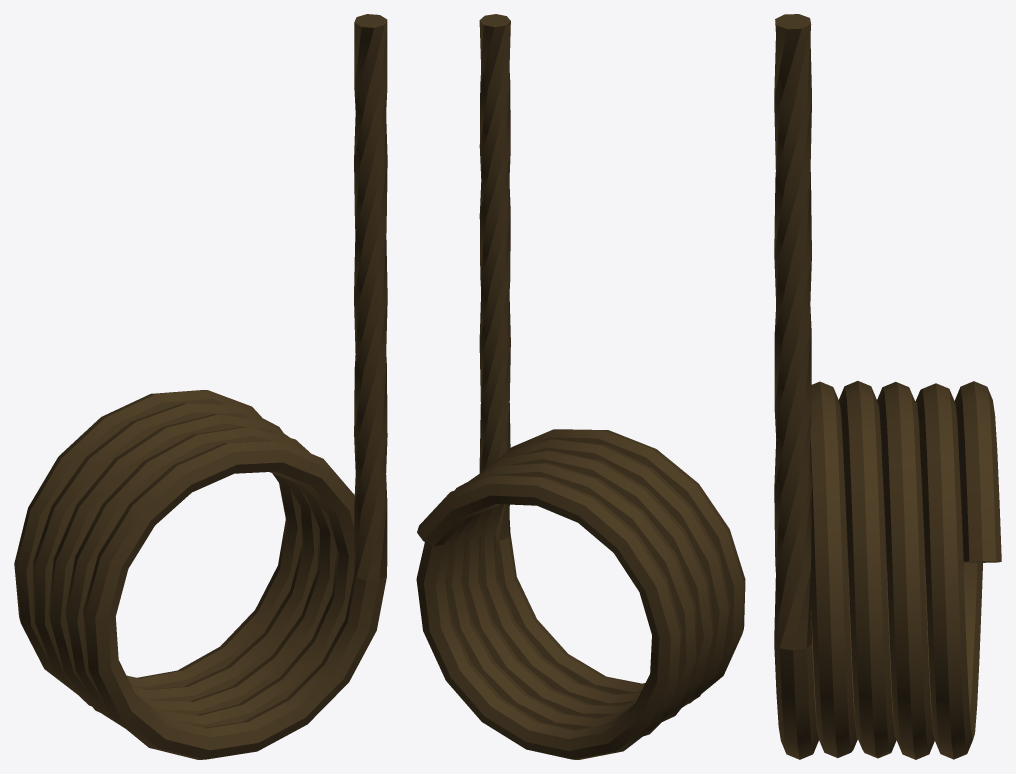
Rendered from Rope.fbx.
The picture shows the model from 3 angles, left to right: view 1: azimuth 30°, elevation 25°; view 2: azimuth 150°, elevation 25°; view 3: azimuth 270°, elevation 25°; orthographic projection. The views are drawn at different scales.
Visible parts, largest first — view 1: RopeMesh; view 2: RopeMesh; view 3: RopeMesh.
Boxes of the visible parts, box(x1,y1,x2,y2) form: RopeMesh: box(14, 14, 387, 759); RopeMesh: box(416, 14, 745, 759); RopeMesh: box(774, 14, 1001, 759).
Bounding box in the file's own units: 0.02 × 0.012 × 0.0461.
